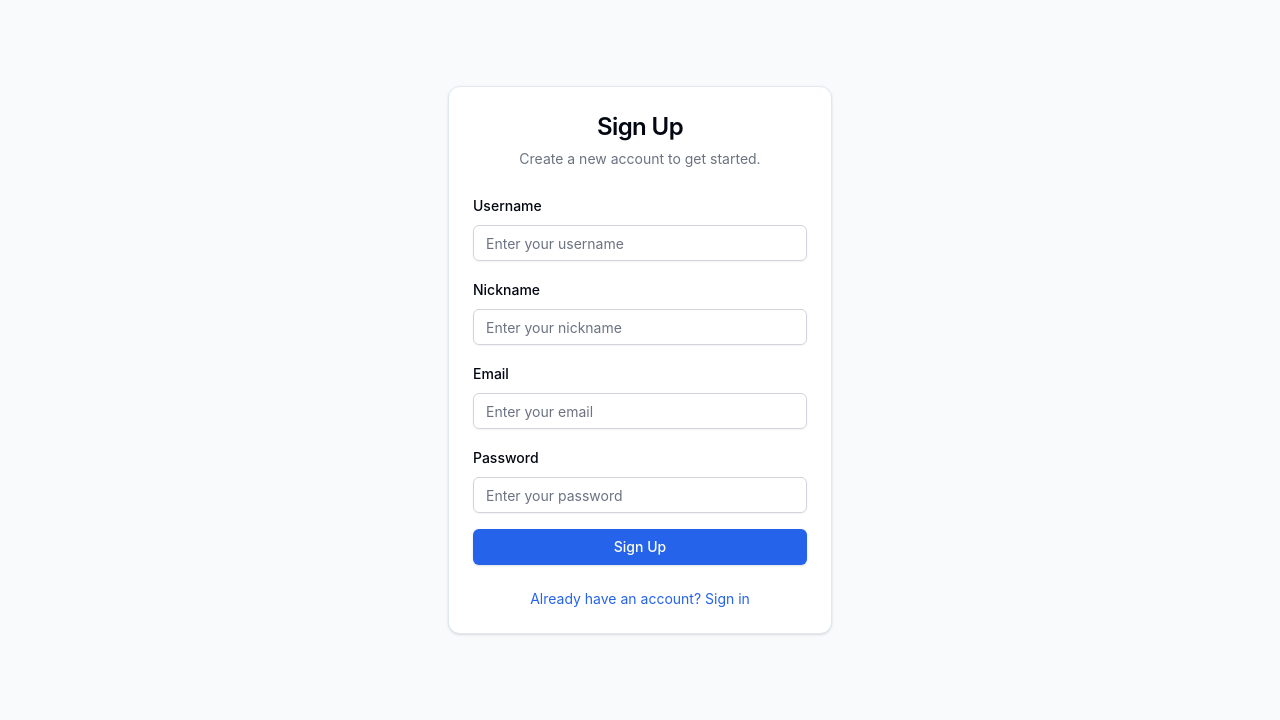
Test: SignUp Page › handles successful signup, shows toast, signs in, and redirects
Type "newuser" into the field labelled "Username". click: (640, 243)
box: [473,225,807,261]
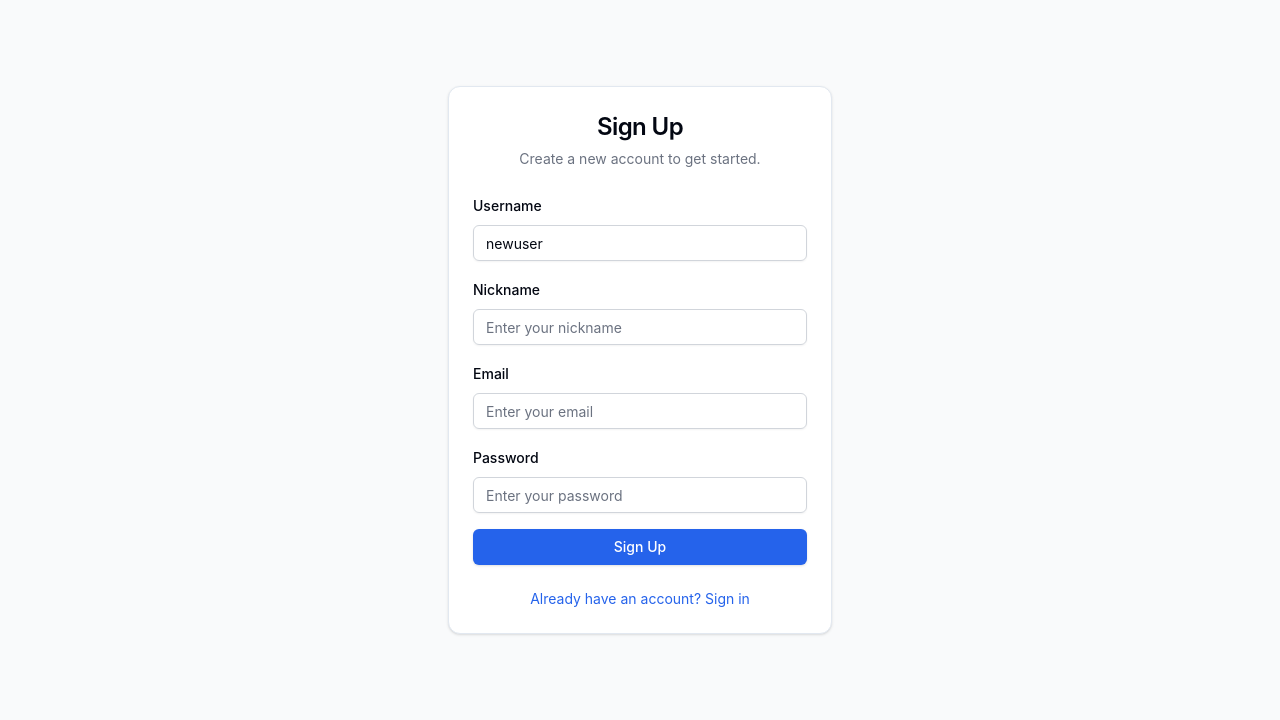
Type "tester" into the field labelled "Nickname". click: (640, 327)
box: [473,309,807,345]
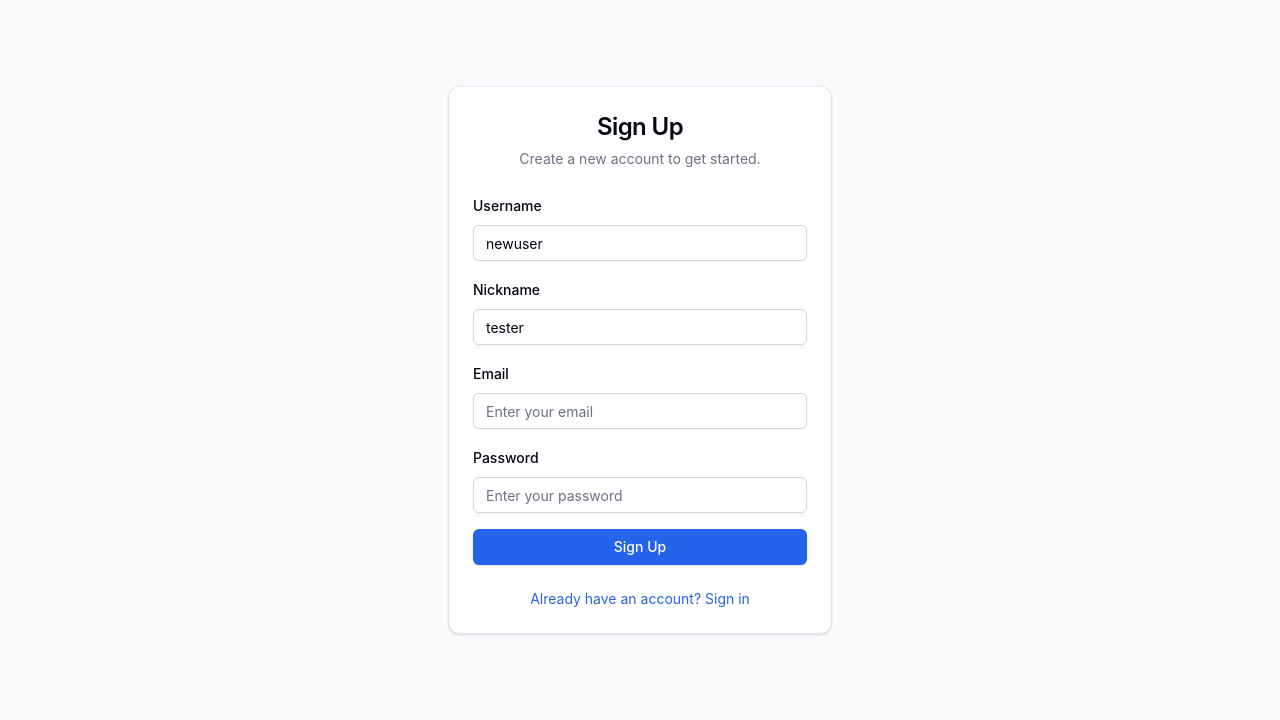
Type "test@test.com" into the field labelled "Email". click: (640, 411)
box: [473,393,807,429]
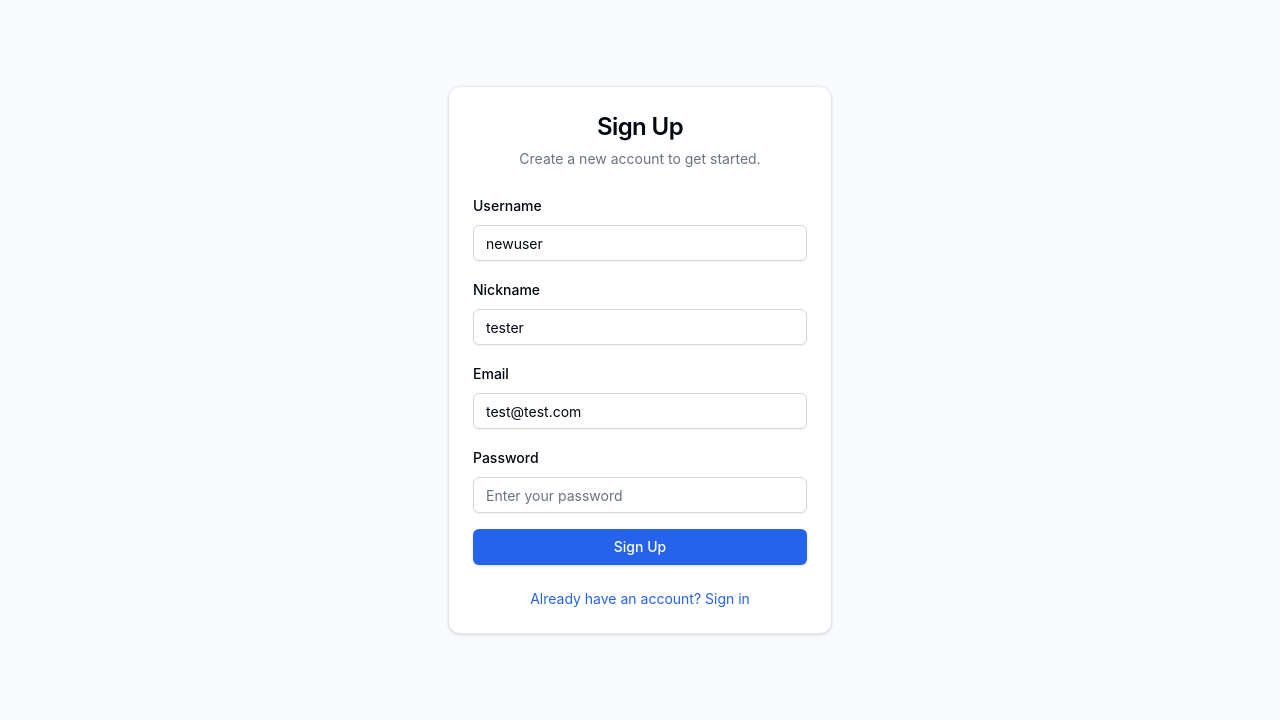
Type "pass123" into the password field labelled "Password". click: (640, 495)
box: [473,477,807,513]
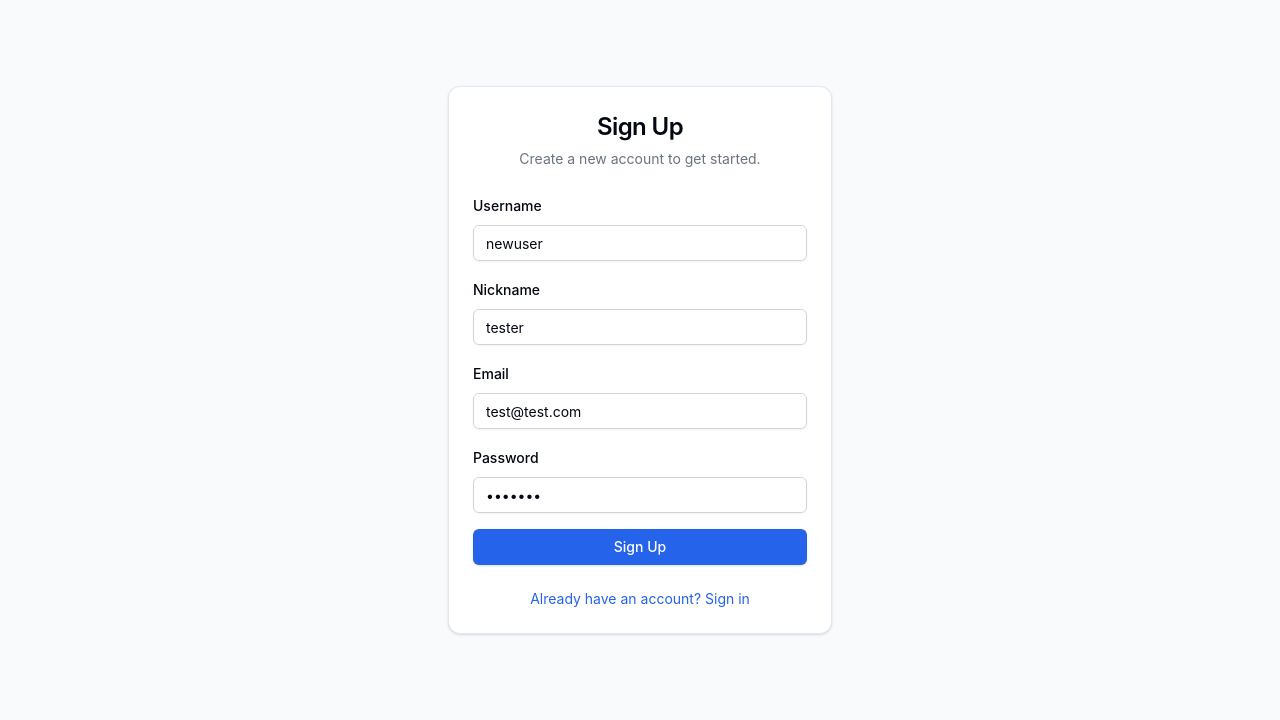
Click the button "Sign Up". click: click(640, 547)
box: [473,529,807,565]
Wait 2500 ms
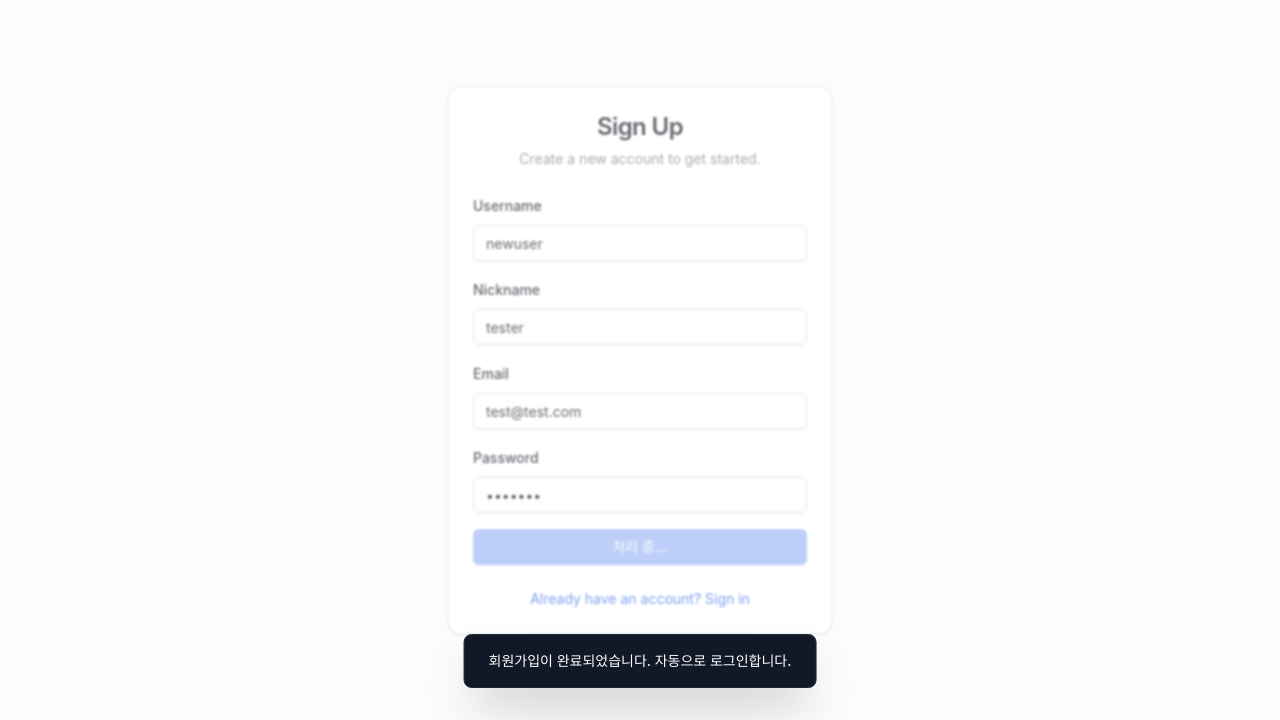
Expected: the text "회원가입이 완료되었습니다. 자동으로 로그인합니다." is shown, [464,634,816,688]
